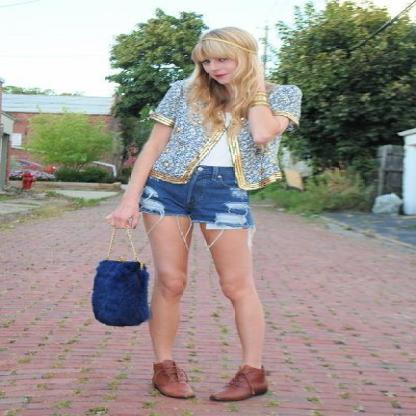bag: (91, 260, 148, 326)
jacket: (146, 75, 302, 189)
shirt: (198, 132, 238, 166)
shoe: (150, 360, 271, 403)
shorts: (138, 166, 252, 229)
